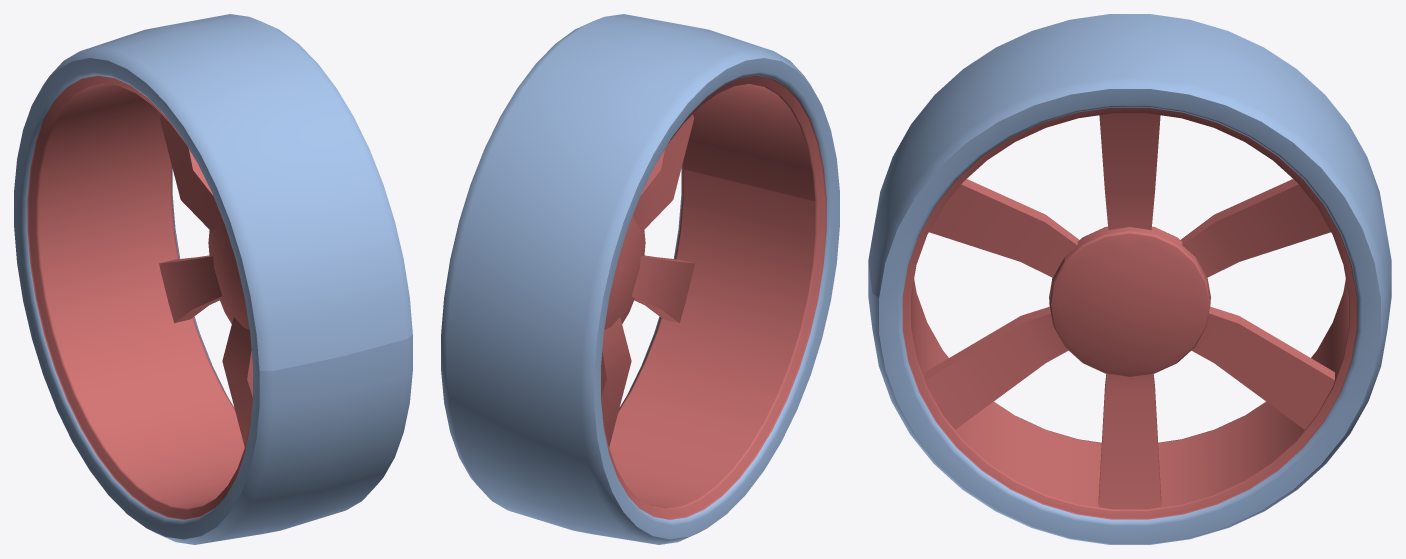
The model's file is Car_001_Wheel.fbx.
The picture shows the model from 3 angles, left to right: view 1: azimuth 30°, elevation 25°; view 2: azimuth 150°, elevation 25°; view 3: azimuth 270°, elevation 25°; orthographic projection.
Visible parts, largest first — view 1: Car_001_Wheel; view 2: Car_001_Wheel; view 3: Car_001_Wheel.
Part boxes in pixels (box(x1,y1,x2,y2)): Car_001_Wheel: box(14, 14, 412, 544); Car_001_Wheel: box(441, 14, 839, 544); Car_001_Wheel: box(868, 14, 1391, 544).
Bounding box in the file's own units: 23.65 × 69.85 × 69.85.
